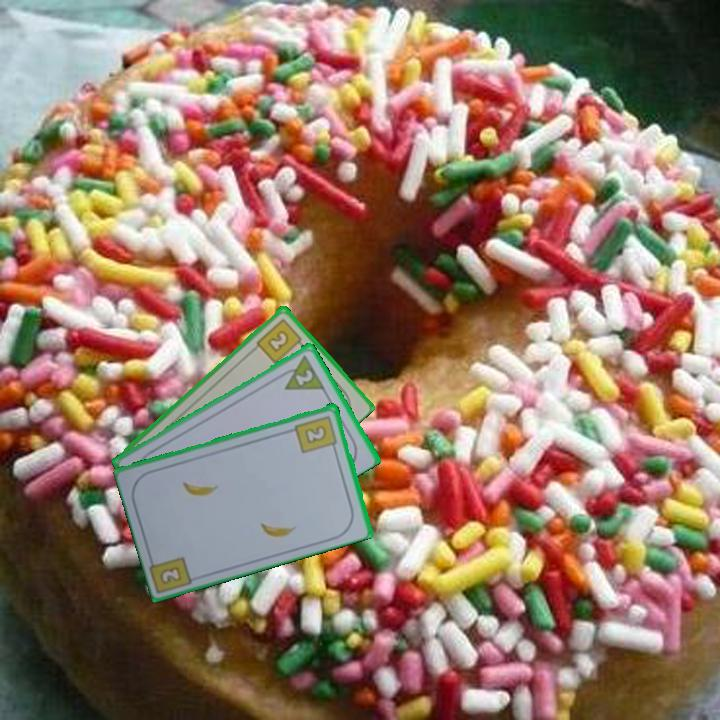2b: (253, 315, 307, 366), (292, 412, 340, 456), (156, 562, 185, 587)
2p: (292, 365, 316, 388)
